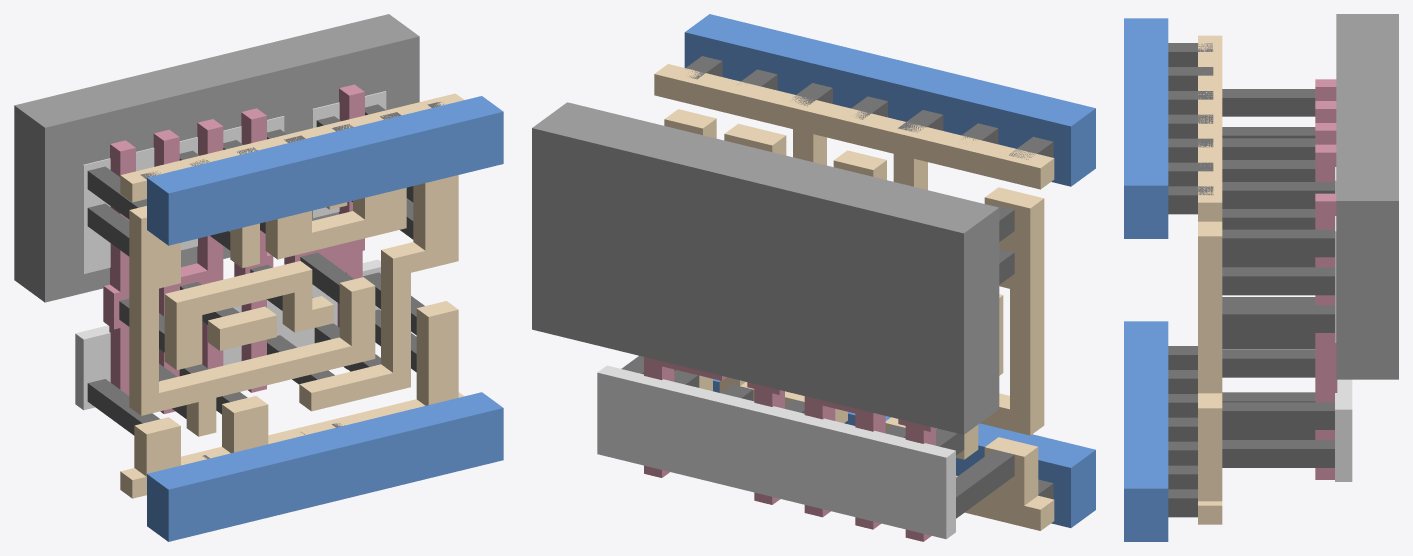
Rendered from sky130_fd_sc_hd__xor2_1.gds.gltf.
3 renders of one model, left to right at view 1: azimuth 30°, elevation 25°; view 2: azimuth 150°, elevation 25°; view 3: azimuth 270°, elevation 25°, orthographic. The views are drawn at different scales.
Visible parts, largest first — view 1: sky130_fd_sc_hd__xor2_1_li1, sky130_fd_sc_hd__xor2_1_met1, sky130_fd_sc_hd__xor2_1_nwell, sky130_fd_sc_hd__xor2_1_poly, sky130_fd_sc_hd__xor2_1_licon, sky130_fd_sc_hd__xor2_1_diff, sky130_fd_sc_hd__xor2_1_mcon; view 2: sky130_fd_sc_hd__xor2_1_nwell, sky130_fd_sc_hd__xor2_1_li1, sky130_fd_sc_hd__xor2_1_diff, sky130_fd_sc_hd__xor2_1_met1, sky130_fd_sc_hd__xor2_1_licon, sky130_fd_sc_hd__xor2_1_poly, sky130_fd_sc_hd__xor2_1_mcon; view 3: sky130_fd_sc_hd__xor2_1_licon, sky130_fd_sc_hd__xor2_1_nwell, sky130_fd_sc_hd__xor2_1_met1, sky130_fd_sc_hd__xor2_1_li1, sky130_fd_sc_hd__xor2_1_mcon, sky130_fd_sc_hd__xor2_1_poly, sky130_fd_sc_hd__xor2_1_diff.
Part boxes in pixels (bbox=[...]): sky130_fd_sc_hd__xor2_1_li1: bbox=[120, 93, 463, 498]; sky130_fd_sc_hd__xor2_1_met1: bbox=[147, 96, 503, 541]; sky130_fd_sc_hd__xor2_1_nwell: bbox=[14, 14, 419, 302]; sky130_fd_sc_hd__xor2_1_poly: bbox=[103, 84, 364, 413]; sky130_fd_sc_hd__xor2_1_licon: bbox=[87, 104, 424, 435]; sky130_fd_sc_hd__xor2_1_diff: bbox=[75, 91, 386, 410]; sky130_fd_sc_hd__xor2_1_mcon: bbox=[140, 102, 443, 458]; sky130_fd_sc_hd__xor2_1_nwell: bbox=[532, 102, 999, 434]; sky130_fd_sc_hd__xor2_1_li1: bbox=[654, 64, 1054, 530]; sky130_fd_sc_hd__xor2_1_diff: bbox=[597, 365, 955, 539]; sky130_fd_sc_hd__xor2_1_met1: bbox=[684, 14, 1095, 527]; sky130_fd_sc_hd__xor2_1_licon: bbox=[621, 204, 1014, 518]; sky130_fd_sc_hd__xor2_1_poly: bbox=[644, 357, 935, 541]; sky130_fd_sc_hd__xor2_1_mcon: bbox=[685, 56, 1053, 499]; sky130_fd_sc_hd__xor2_1_licon: bbox=[1222, 89, 1334, 467]; sky130_fd_sc_hd__xor2_1_nwell: bbox=[1336, 14, 1398, 379]; sky130_fd_sc_hd__xor2_1_met1: bbox=[1124, 18, 1168, 541]; sky130_fd_sc_hd__xor2_1_li1: bbox=[1198, 35, 1222, 524]; sky130_fd_sc_hd__xor2_1_mcon: bbox=[1168, 43, 1213, 517]; sky130_fd_sc_hd__xor2_1_poly: bbox=[1315, 79, 1337, 479]; sky130_fd_sc_hd__xor2_1_diff: bbox=[1335, 167, 1352, 481].
Bounding box in the file's own units: 3.6 × 3.2 × 2.24.
